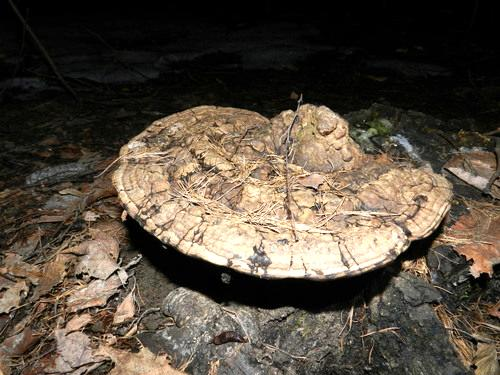Ganoderma - Fruit Body: (113, 99, 455, 282)
